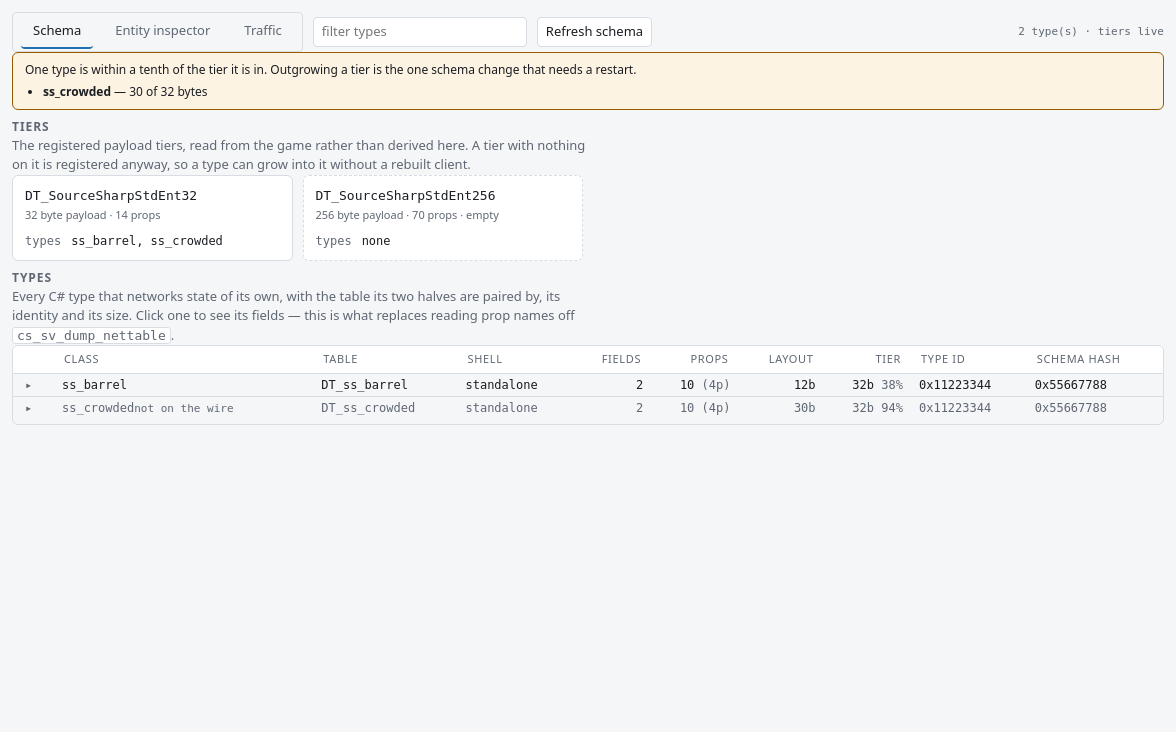
the schema pane › says where inside its word a packed field sits
Check: the text "ss_barrel" is shown, box left=54, top=373, right=313, bottom=396
Click the button "▸" in the row of "DT_ss_barrel" at (29, 384), box left=21, top=376, right=36, bottom=394
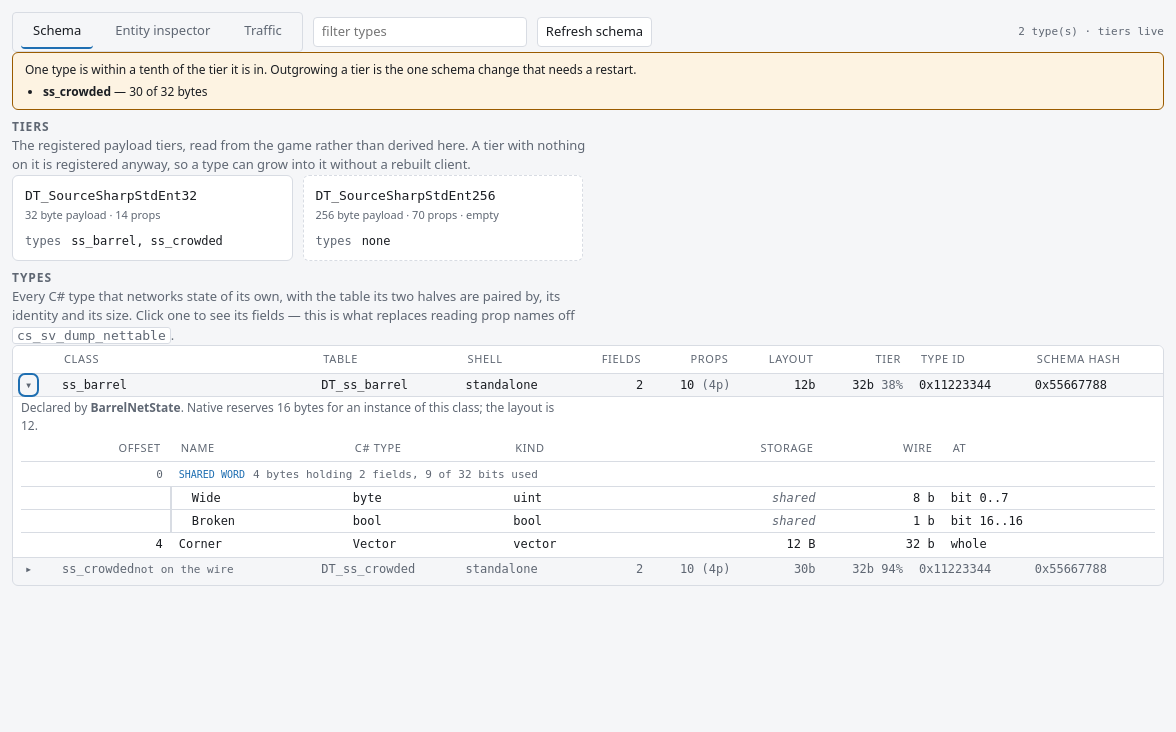
Check: the text "bit 0..7" is shown, box left=943, top=486, right=1155, bottom=509
Check: the text "bit 16..16" is shown, box left=943, top=509, right=1155, bottom=532
Check: the text "whole" is shown, box left=943, top=532, right=1155, bottom=554
